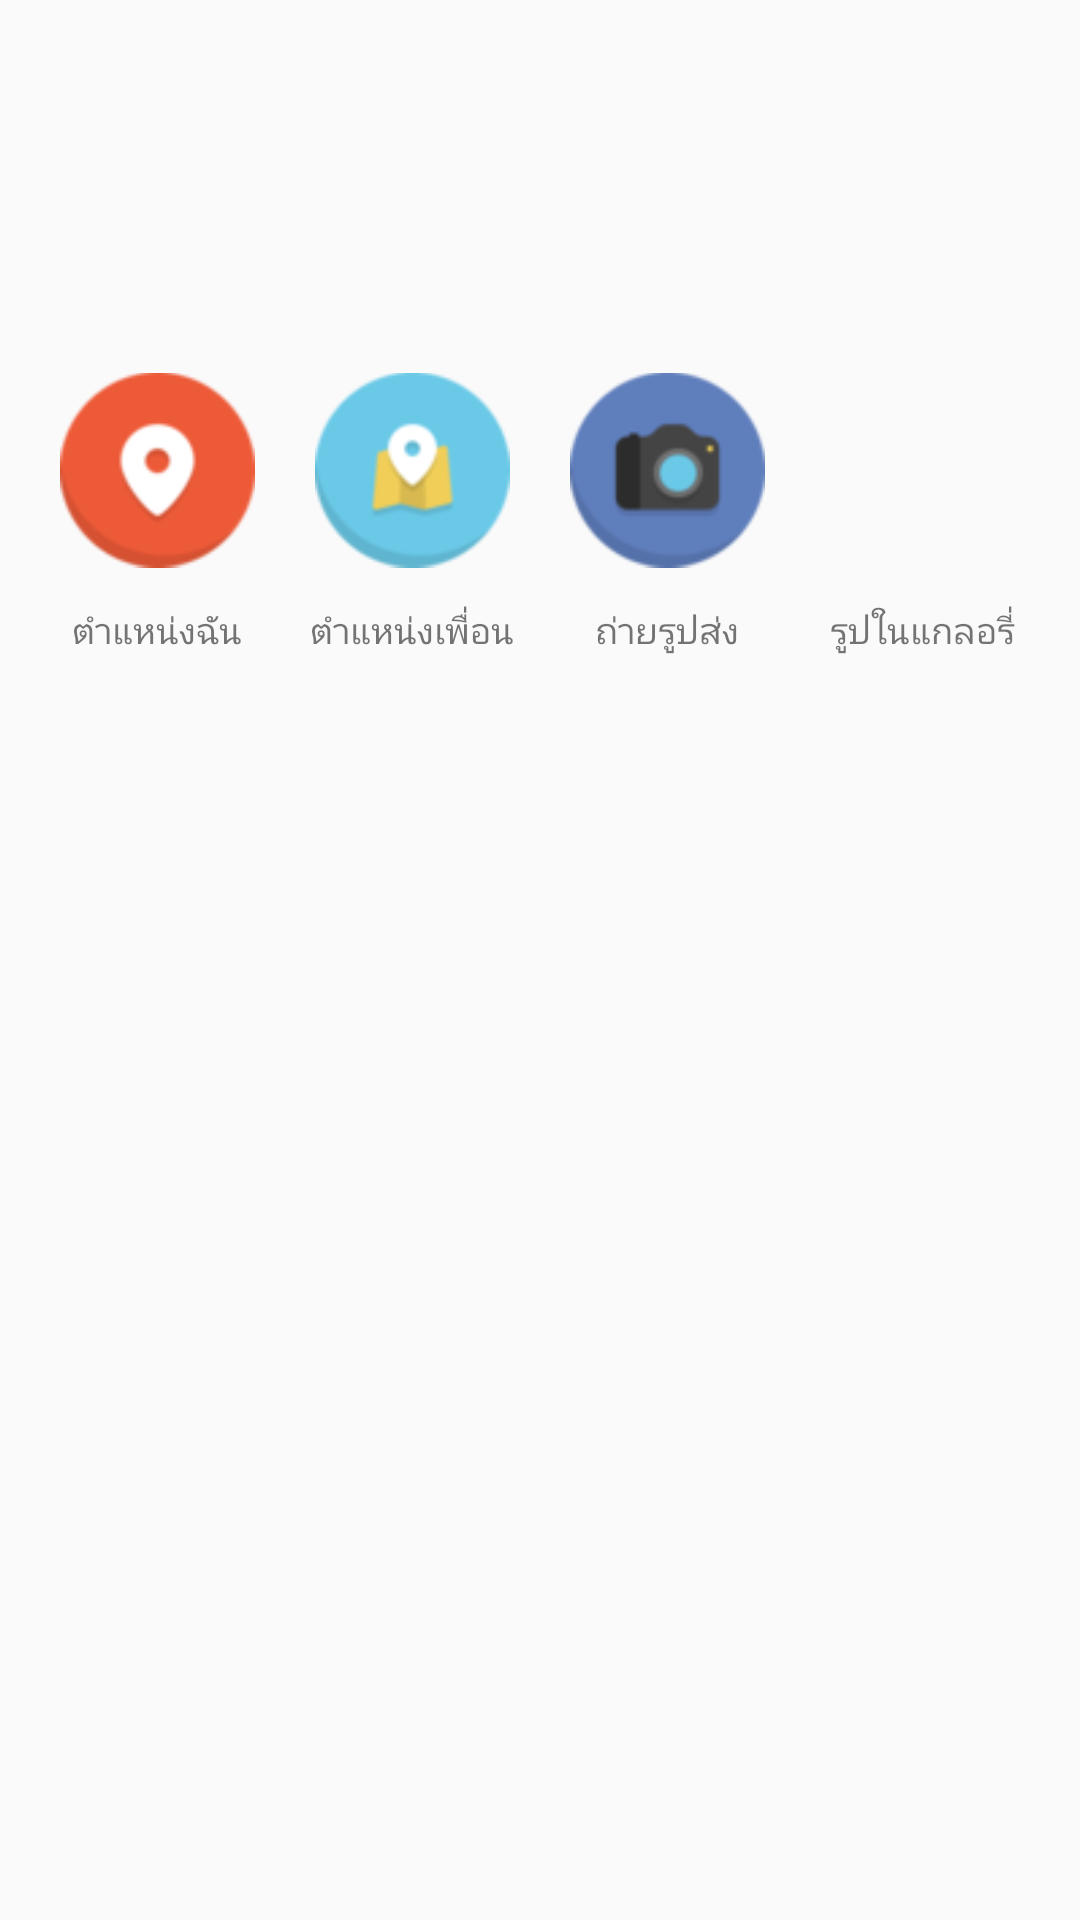

Point at icon controls on the screen. Image size 1080px x 1920px, points as (x=x, y=y).
camera: (x=667, y=470)
